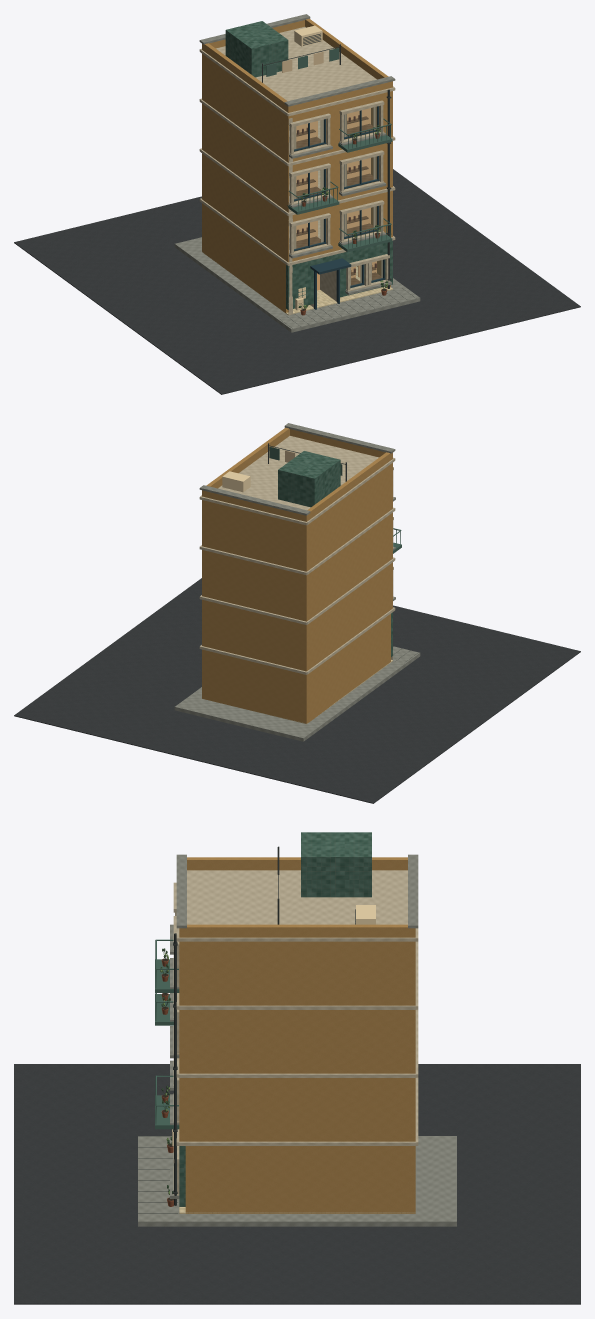
Rendered from ochre-walkup.glb.
3 renders of one model, top to bottom at view 1: azimuth 30°, elevation 25°; view 2: azimuth 150°, elevation 25°; view 3: azimuth 270°, elevation 25°, orthographic. The views are drawn at different scales.
Parts seen in each view (by area): view 1: Street asphalt, Architecture ochre-render, Architecture plaster, Architecture sage-tile, Windows plaster, Glass glass, Street stone, Windows jade-paint, Interiors room-wall, Interiors wood, Windows navy-door, Architecture stone (+6 smaller); view 2: Street asphalt, Architecture ochre-render, Architecture plaster, Street stone, Architecture sage-tile, Architecture stone; view 3: Street asphalt, Architecture ochre-render, Architecture plaster, Street stone, Architecture sage-tile, Architecture stone, Windows jade-paint, Props iron, Windows plaster, Windows stone.
Part boxes in pixels (bbox=[...]): Street asphalt: bbox=[14, 169, 580, 394]; Architecture ochre-render: bbox=[202, 18, 392, 313]; Architecture plaster: bbox=[199, 27, 395, 315]; Architecture sage-tile: bbox=[225, 21, 392, 309]; Windows plaster: bbox=[289, 100, 389, 291]; Glass glass: bbox=[294, 107, 382, 285]; Street stone: bbox=[174, 237, 420, 332]; Windows jade-paint: bbox=[287, 118, 392, 252]; Interiors room-wall: bbox=[296, 108, 376, 290]; Interiors wood: bbox=[296, 116, 381, 285]; Windows navy-door: bbox=[294, 106, 385, 287]; Architecture stone: bbox=[199, 14, 395, 106]; Street asphalt: bbox=[14, 578, 580, 803]; Architecture ochre-render: bbox=[202, 427, 392, 723]; Architecture plaster: bbox=[199, 436, 395, 674]; Street stone: bbox=[174, 646, 420, 741]; Architecture sage-tile: bbox=[278, 451, 392, 656]; Architecture stone: bbox=[199, 423, 395, 515]; Street asphalt: bbox=[14, 1064, 580, 1304]; Architecture ochre-render: bbox=[179, 857, 415, 1213]; Architecture plaster: bbox=[176, 870, 418, 1145]; Street stone: bbox=[138, 1136, 456, 1226]; Architecture sage-tile: bbox=[179, 832, 371, 1206]; Architecture stone: bbox=[176, 854, 418, 928]; Windows jade-paint: bbox=[155, 939, 179, 1129]; Props iron: bbox=[172, 846, 355, 1205]; Windows plaster: bbox=[173, 882, 179, 1195]; Windows stone: bbox=[170, 924, 179, 1198].
Size of the model in its own units: 24 by 15.07 by 24.
21 materials, 7 textured.
